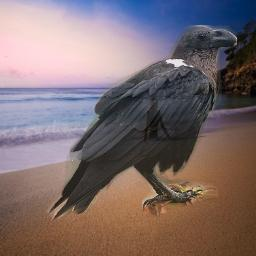Crow: (46, 25, 237, 220)
